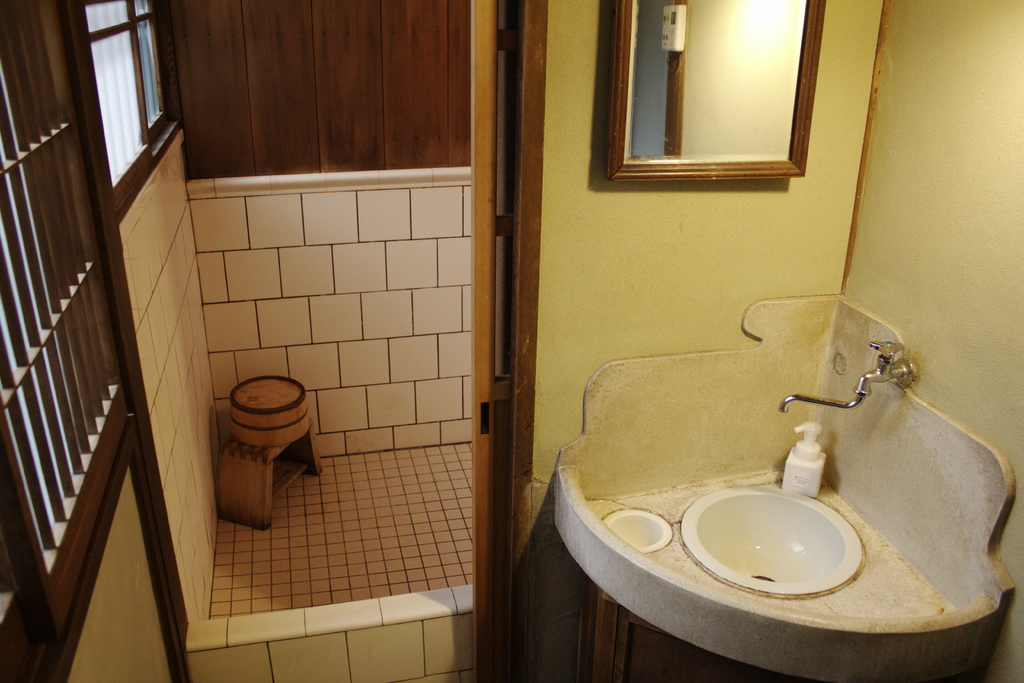tap: (778, 339, 920, 414)
